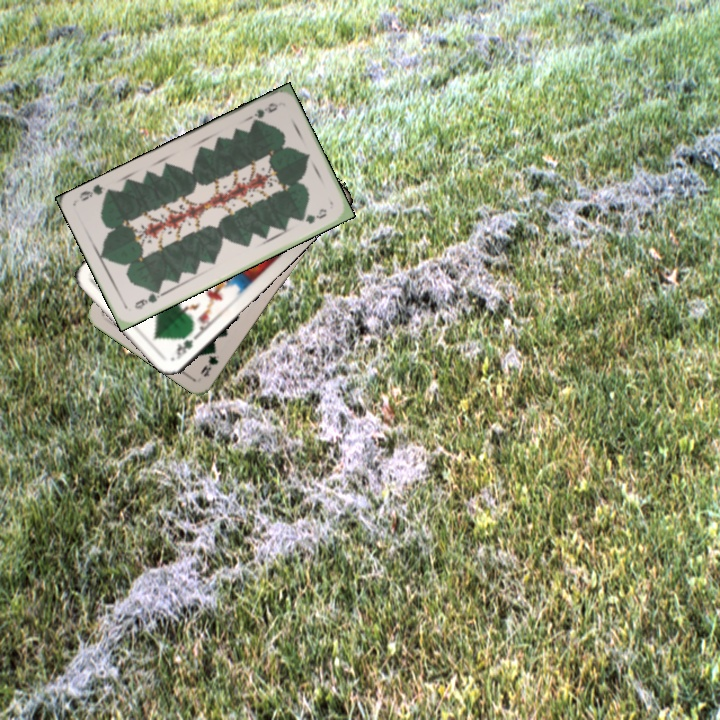G9: (247, 99, 281, 127), (130, 285, 165, 312), (196, 352, 221, 380)
GK: (172, 330, 202, 362)
